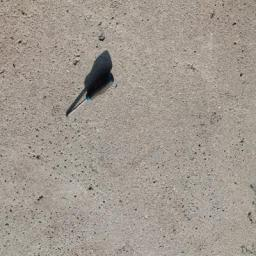FOD: (64, 50, 125, 121)
